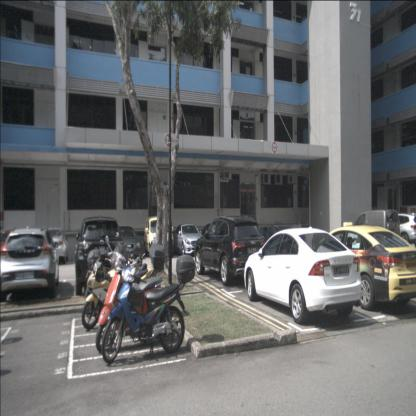vehicle-car: (244, 227, 362, 324), (291, 223, 415, 313), (194, 216, 268, 286), (0, 224, 60, 302), (75, 216, 128, 296), (247, 225, 308, 270), (347, 210, 401, 248), (143, 216, 175, 258), (376, 214, 416, 247), (172, 223, 208, 257), (41, 227, 69, 264), (112, 225, 140, 261), (0, 228, 24, 257)
vehicle-motorcycle: (101, 254, 196, 364), (95, 235, 170, 353), (81, 251, 157, 331)
